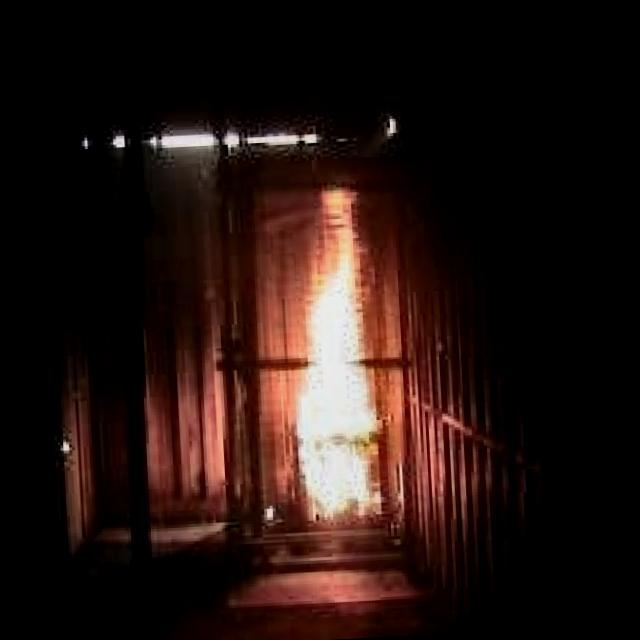fire: (288, 203, 402, 528)
